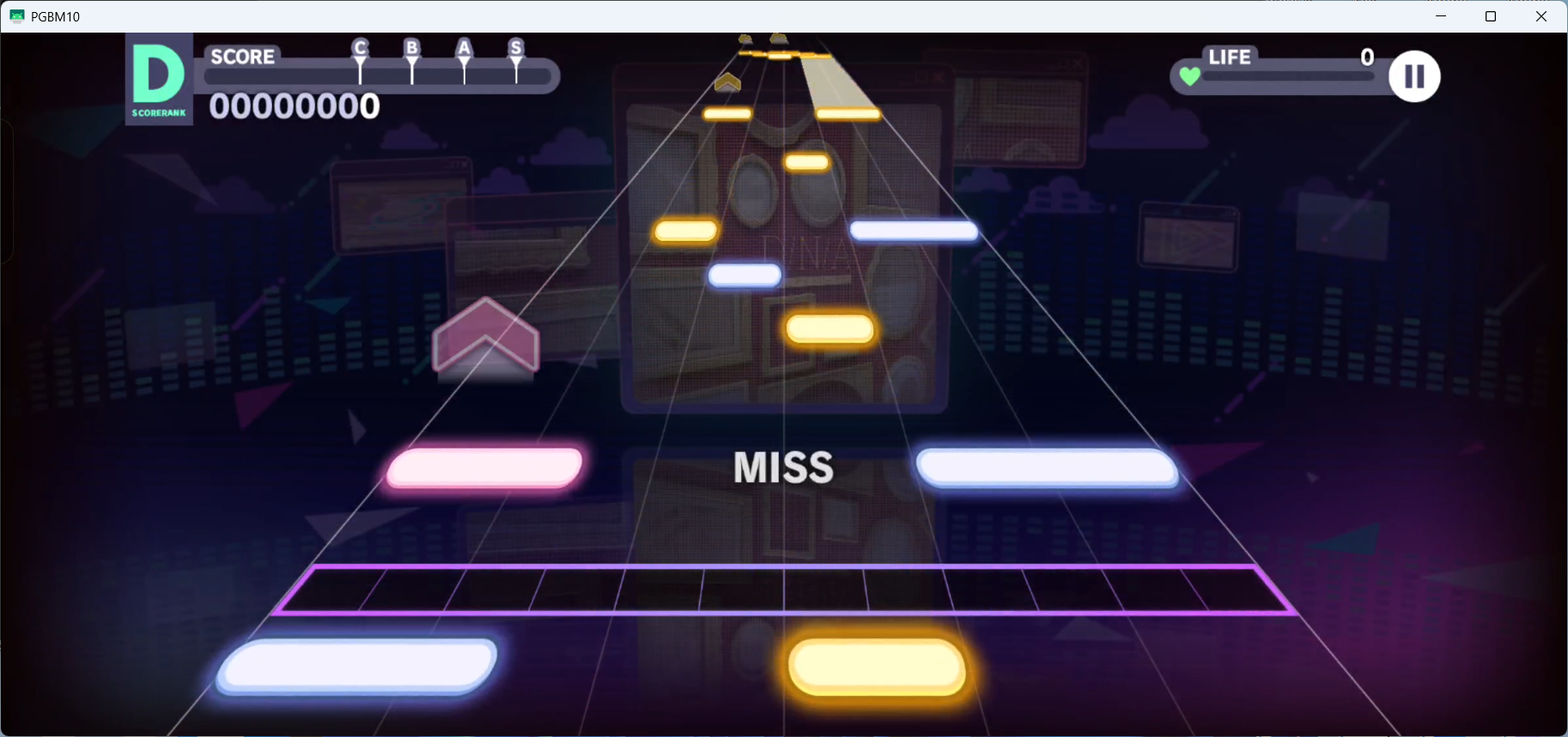flick: (434, 296, 540, 384), (714, 71, 741, 94), (769, 33, 788, 45), (738, 33, 753, 45)
hold: (801, 58, 877, 107)
sweep: (799, 54, 832, 58), (769, 50, 799, 54), (791, 51, 815, 56), (754, 52, 769, 57), (738, 51, 761, 54)
tap: (215, 638, 498, 699), (916, 448, 1181, 490), (788, 637, 966, 696), (387, 448, 583, 487), (848, 220, 980, 241), (786, 313, 873, 344), (708, 263, 781, 288), (654, 220, 718, 242), (817, 107, 879, 119), (785, 154, 829, 169), (703, 108, 751, 118), (769, 54, 791, 60)
